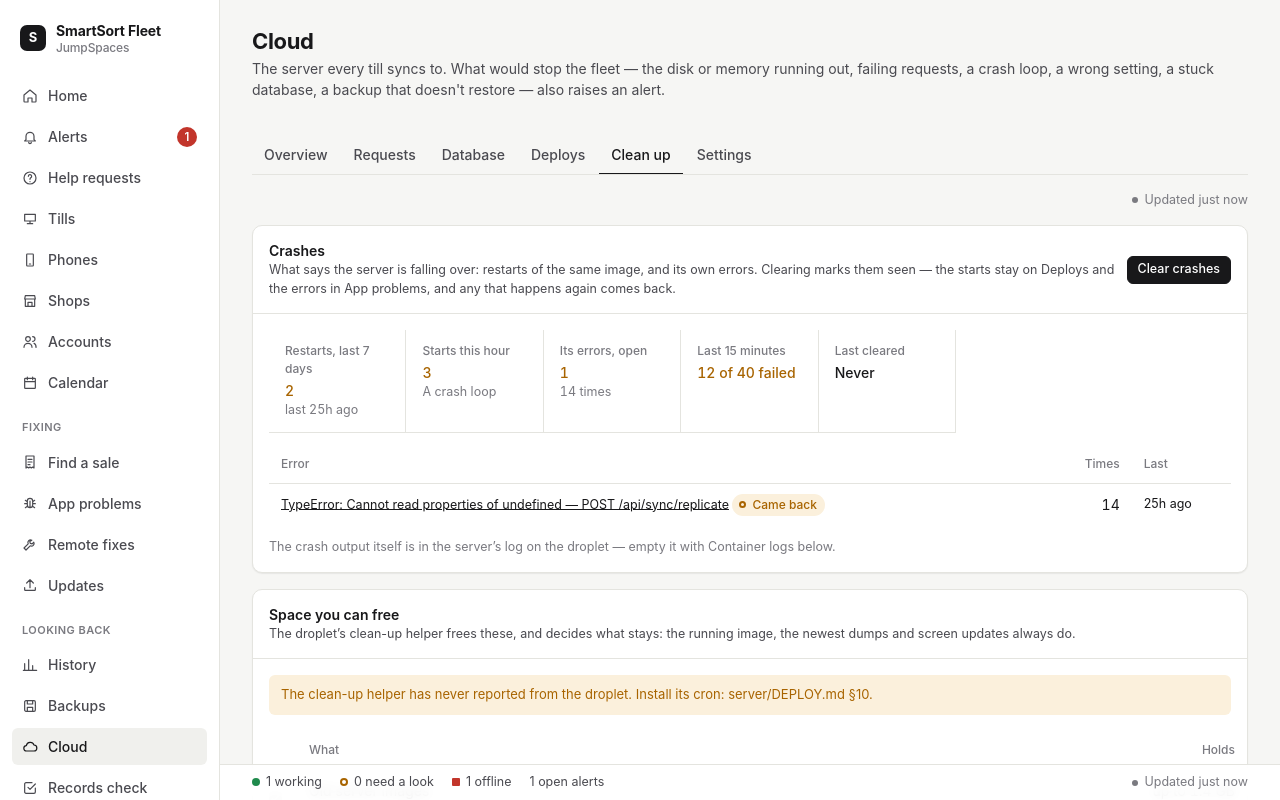
Test: the Cloud page › clears the crashes, and says what it cleared
Expected: the text "A crash loop" is shown, [422,384,496,399]
Expected: the text "12 of 40 failed" is shown, [697,362,802,383]
Step 1. Click the button "Clear crashes" → (1179, 270), box [1126,256,1231,284]
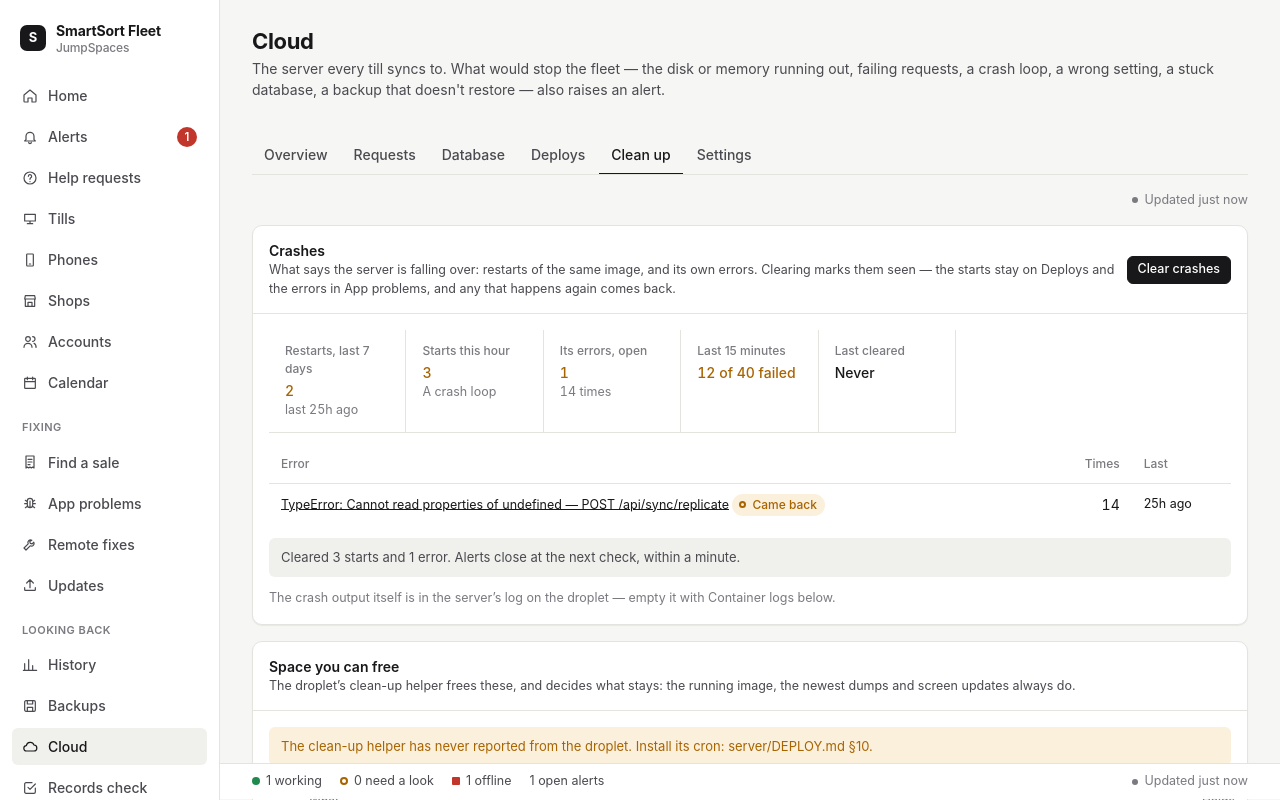
Expected: the text "Cleared 3 starts and 1 error" is shown, [281,548,740,564]
